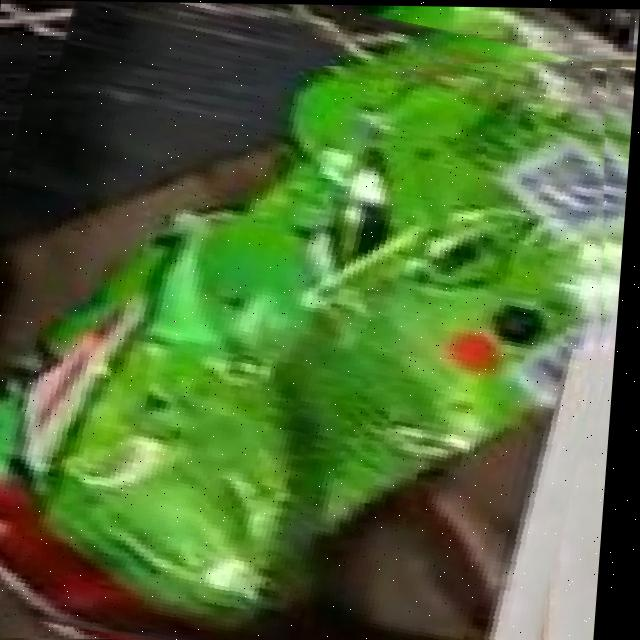litter: (0, 59, 612, 640)
